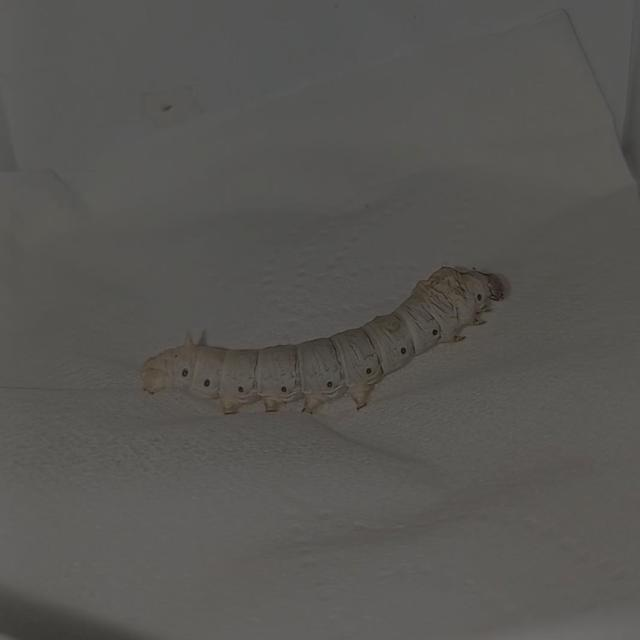Healthy: (128, 187, 540, 467)
